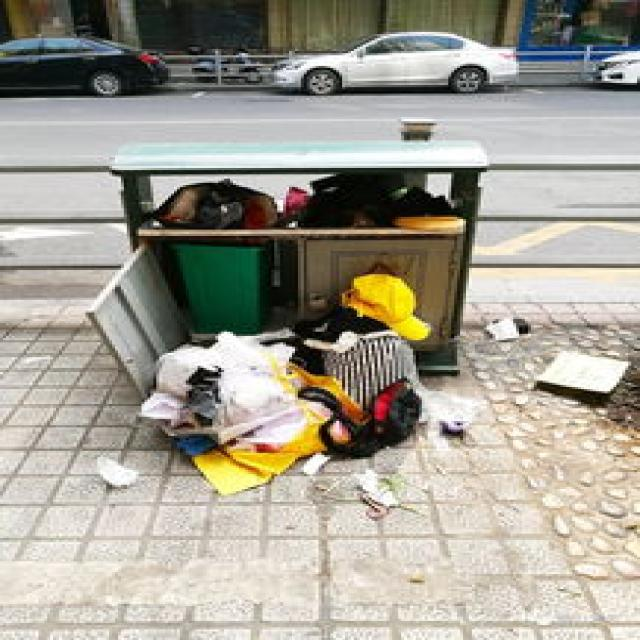garbage: (91, 274, 463, 515)
overflow: (100, 138, 484, 370)
